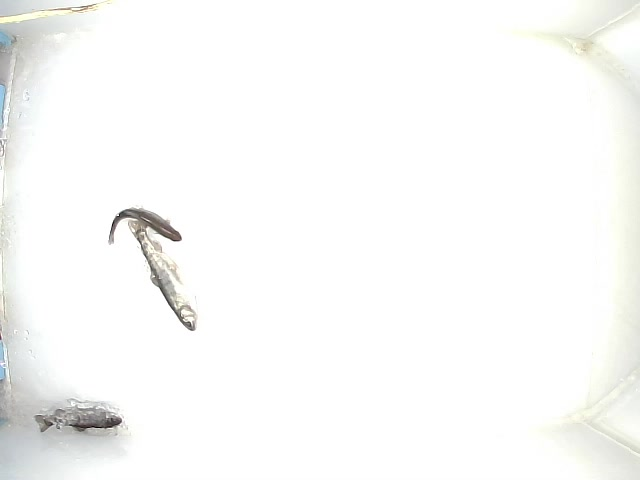fish: (123, 218, 200, 331), (104, 205, 186, 246), (33, 404, 124, 437)
